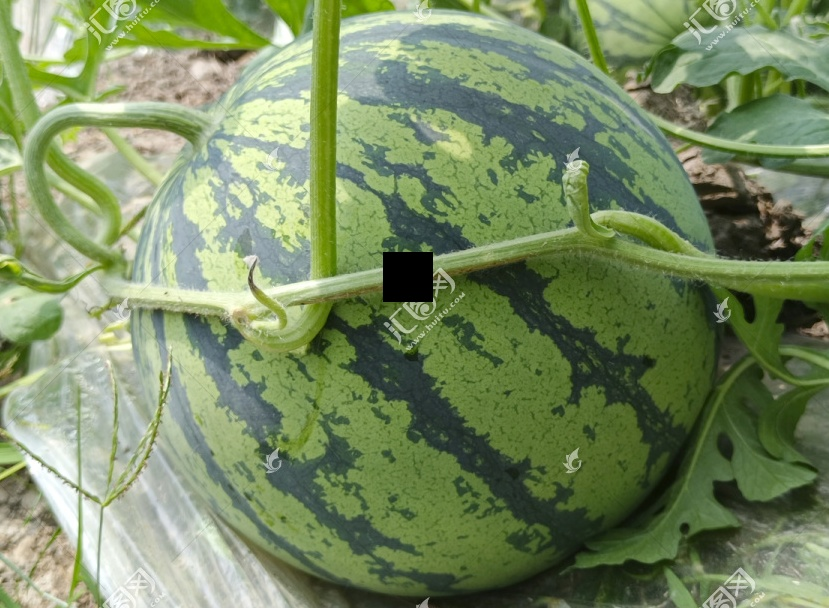watermelon: (139, 9, 723, 604)
